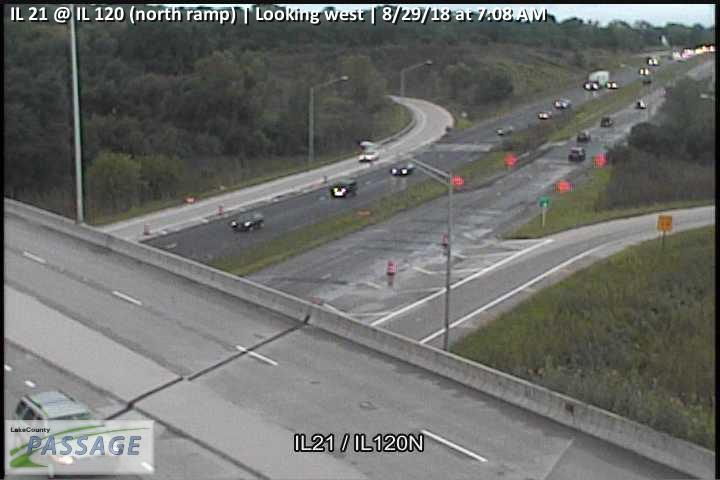Sedan: (229, 213, 264, 232), (329, 179, 356, 199), (390, 160, 415, 176)
